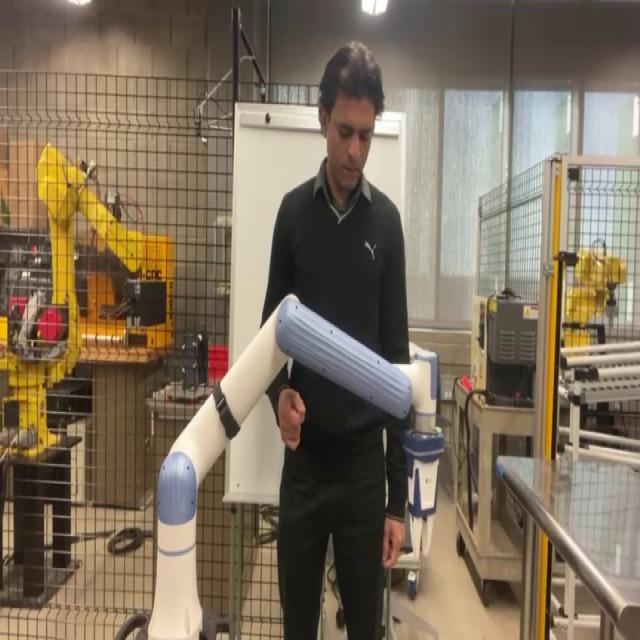robot: (115, 291, 442, 637)
